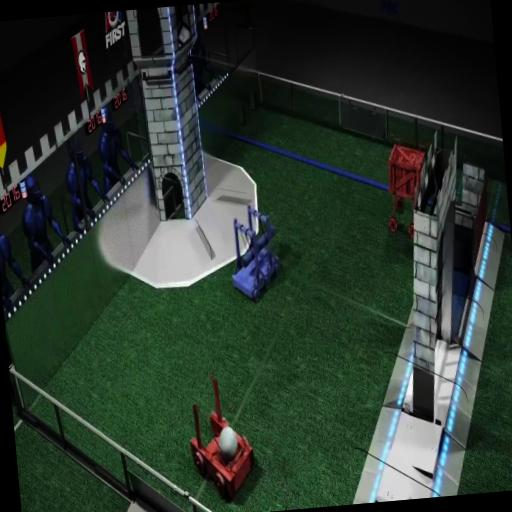robot: (176, 368, 266, 507), (220, 192, 288, 306), (382, 138, 434, 246)
